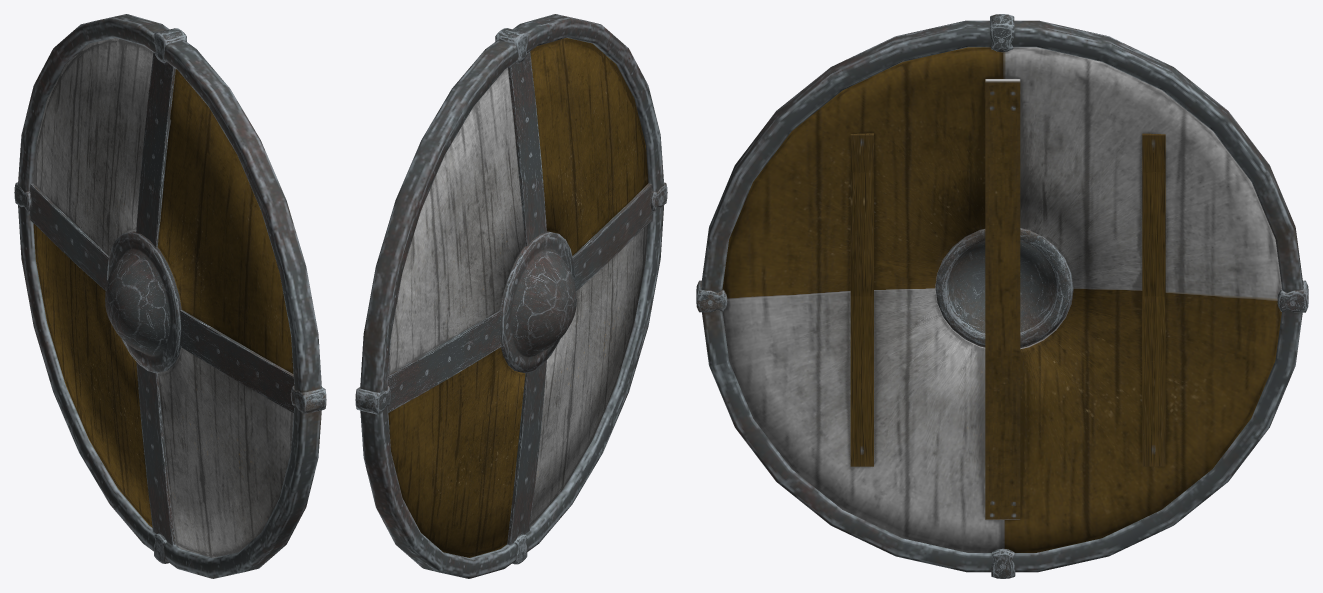
The model's file is shield.glb.
3 renders of one model, left to right at view 1: azimuth 30°, elevation 25°; view 2: azimuth 150°, elevation 25°; view 3: azimuth 270°, elevation 25°, orthographic. The views are drawn at different scales.
Visible parts, largest first — view 1: Circle.001; view 2: Circle.001; view 3: Circle.001.
Part boxes in pixels (bbox=[...]): Circle.001: bbox=[14, 14, 326, 578]; Circle.001: bbox=[355, 14, 667, 578]; Circle.001: bbox=[696, 14, 1308, 578].
Size of the model in its own units: 0.2763 by 2.05 by 2.05.
1 material, 1 textured.
